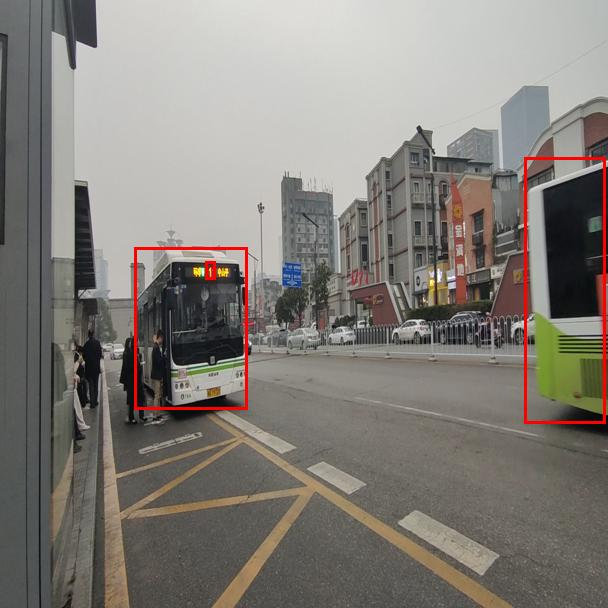bus: (524, 157, 605, 423), (134, 247, 247, 409)
screen: (205, 261, 215, 279)
